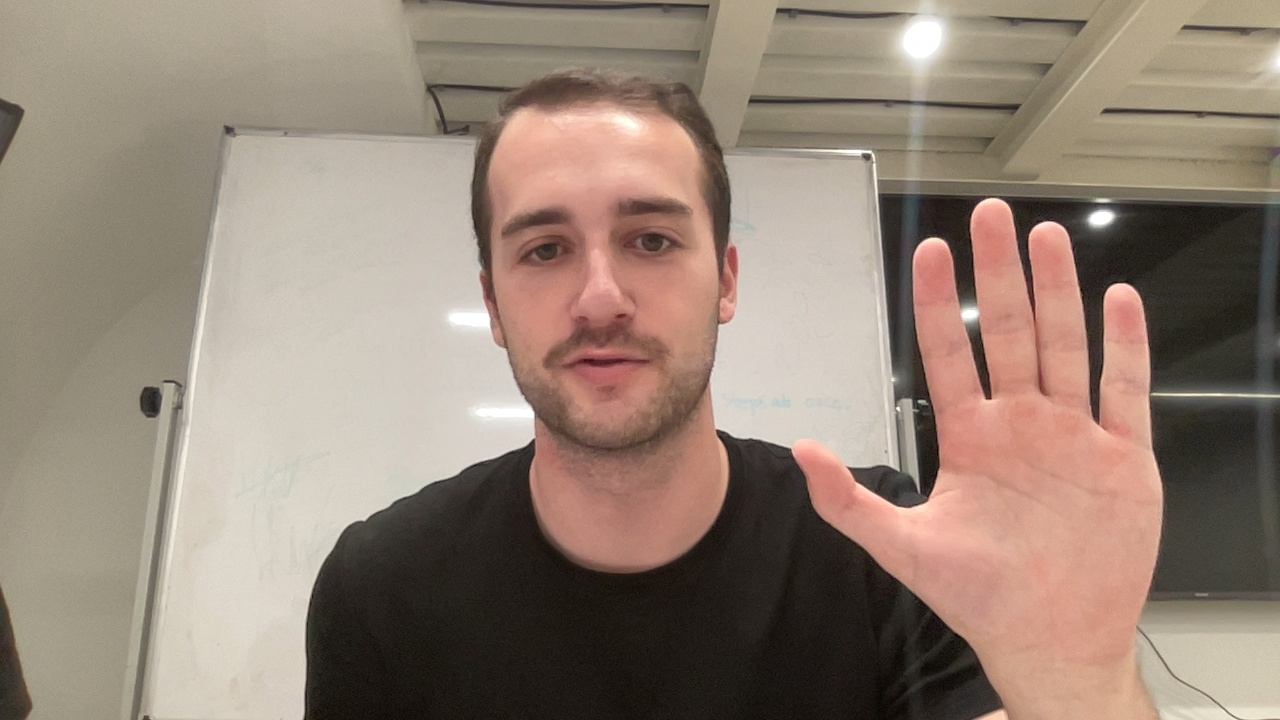Hello: (786, 193, 1169, 679)
